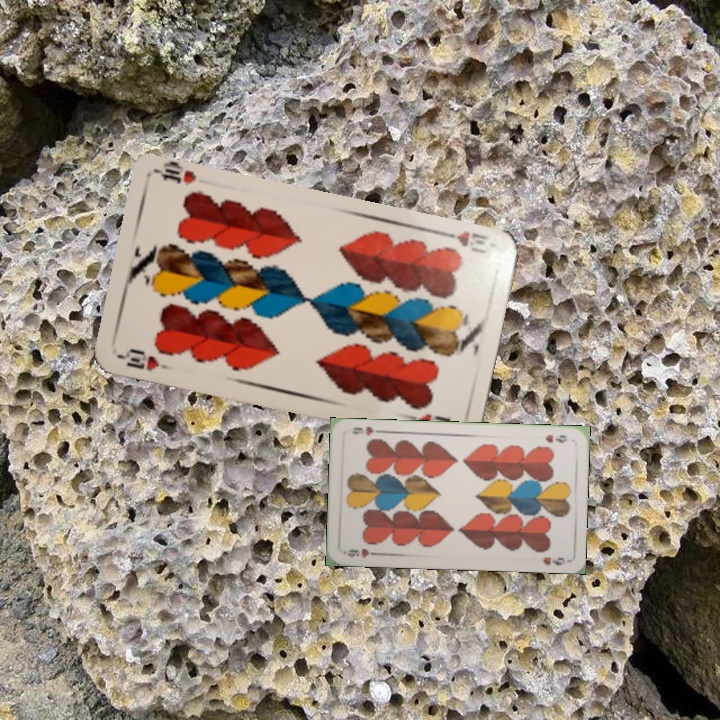H10: (115, 344, 174, 374), (438, 227, 491, 257)
H9: (341, 544, 381, 560), (541, 430, 570, 445)
